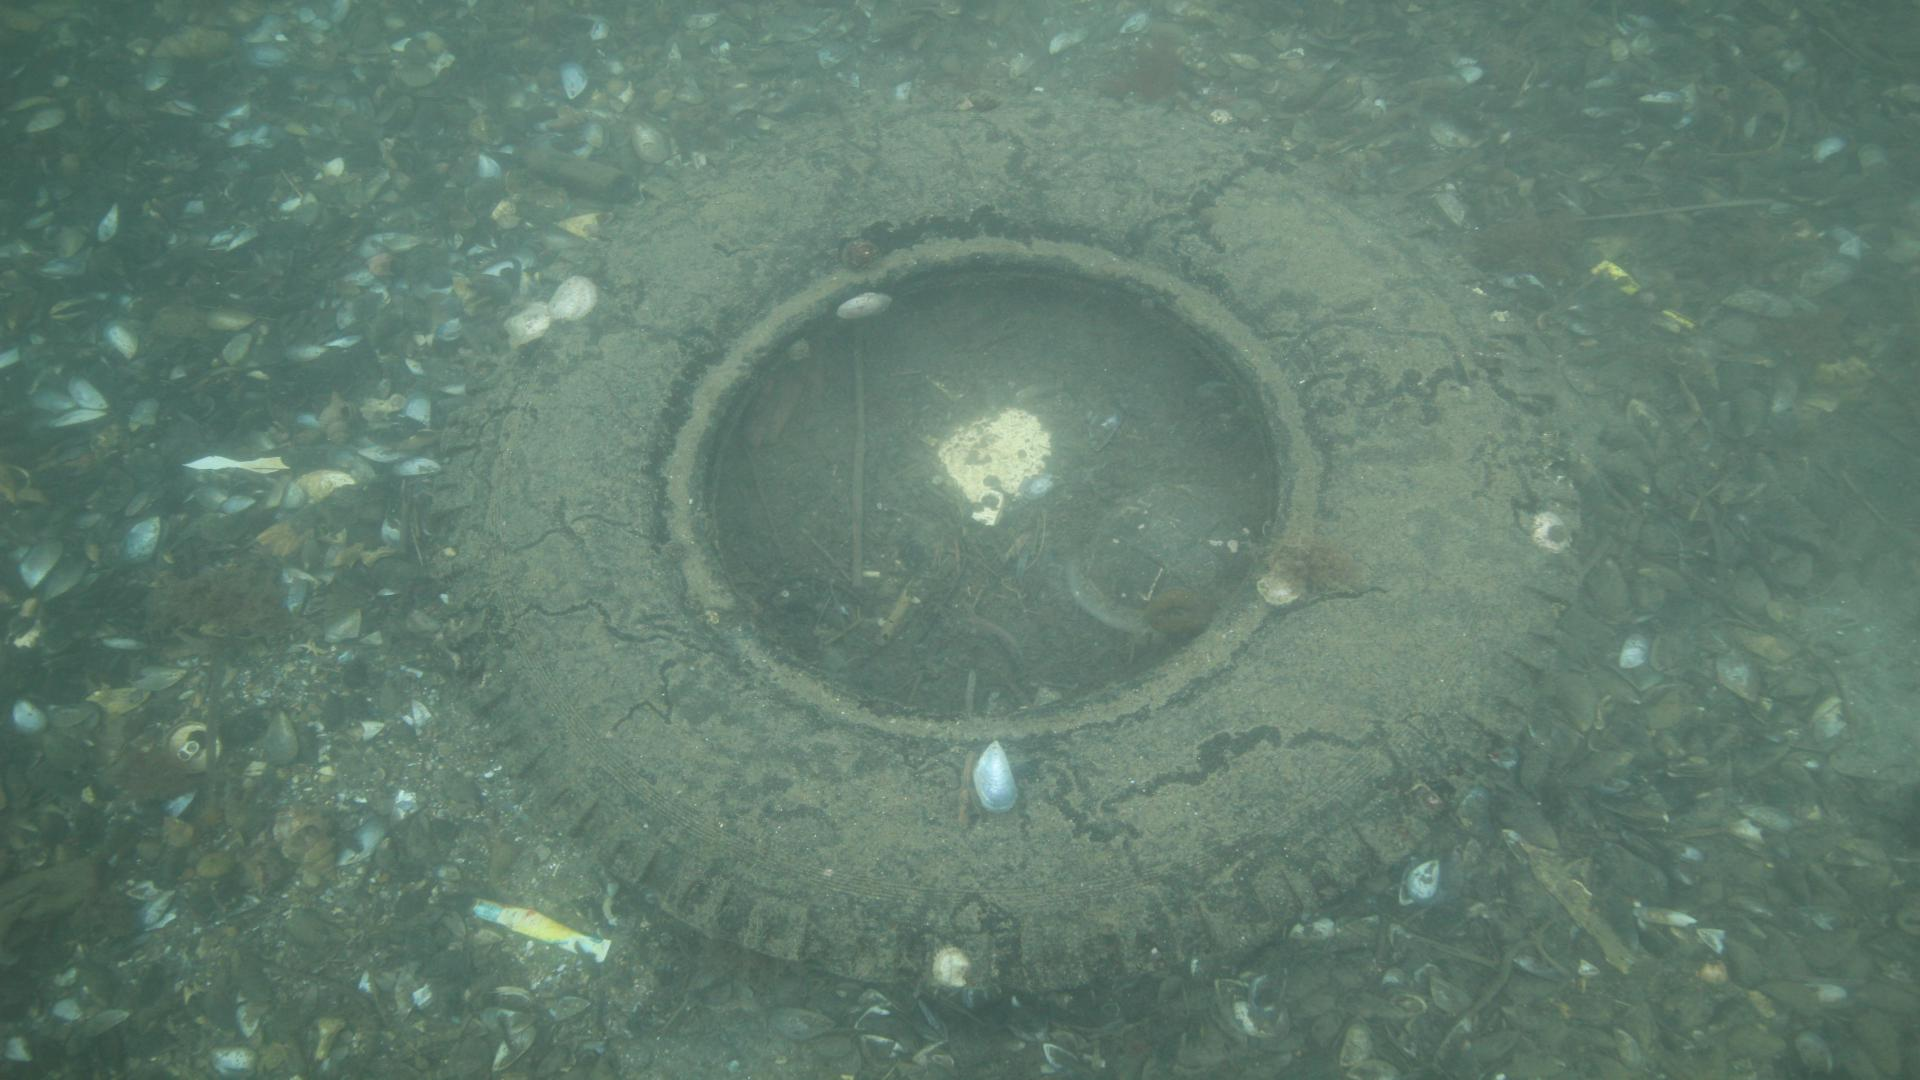tire: (427, 90, 1586, 1013)
